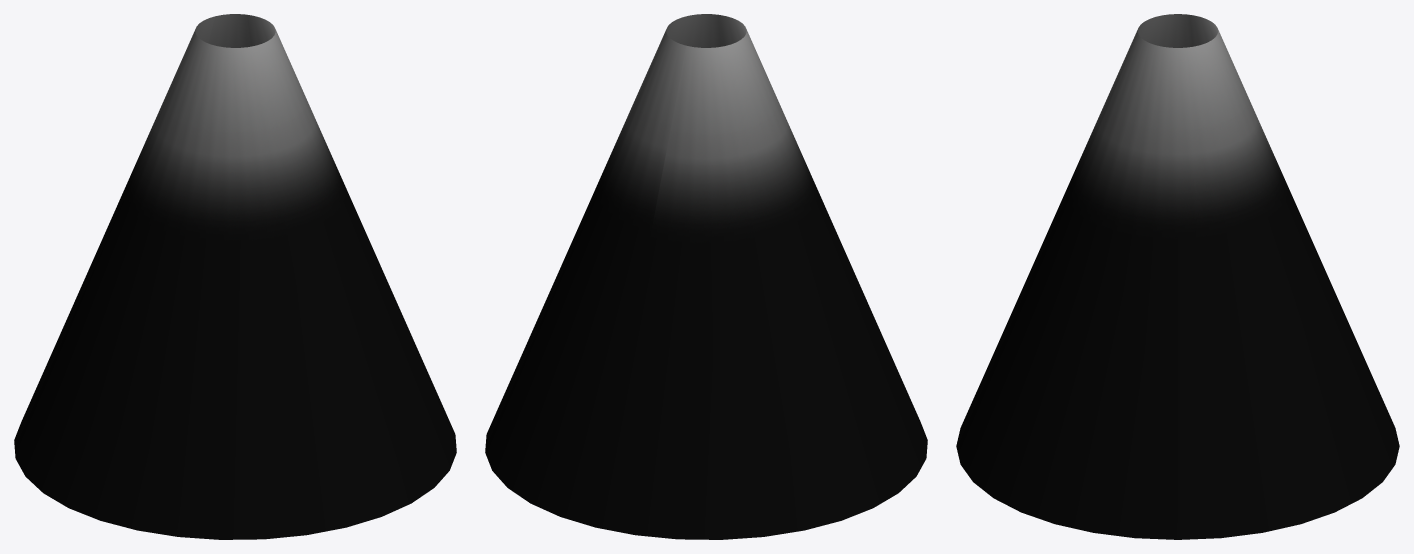
The model's file is CONO.fbx.
The picture shows the model from 3 angles, left to right: view 1: azimuth 30°, elevation 25°; view 2: azimuth 150°, elevation 25°; view 3: azimuth 270°, elevation 25°; orthographic projection.
Parts seen in each view (by area): view 1: Cylinder.031; view 2: Cylinder.031; view 3: Cylinder.031.
Part boxes in pixels (x1,y1,x2,y2): Cylinder.031: (14,14,456,539); Cylinder.031: (485,14,927,539); Cylinder.031: (956,14,1399,539).
Bounding box in the file's own units: 339 × 350 × 339.
